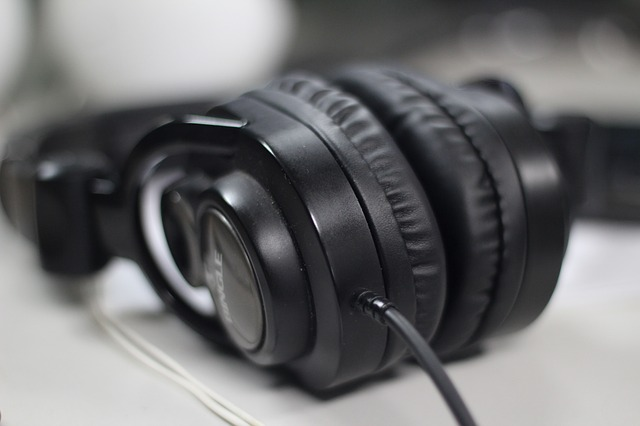headphones: (1, 67, 592, 392)
